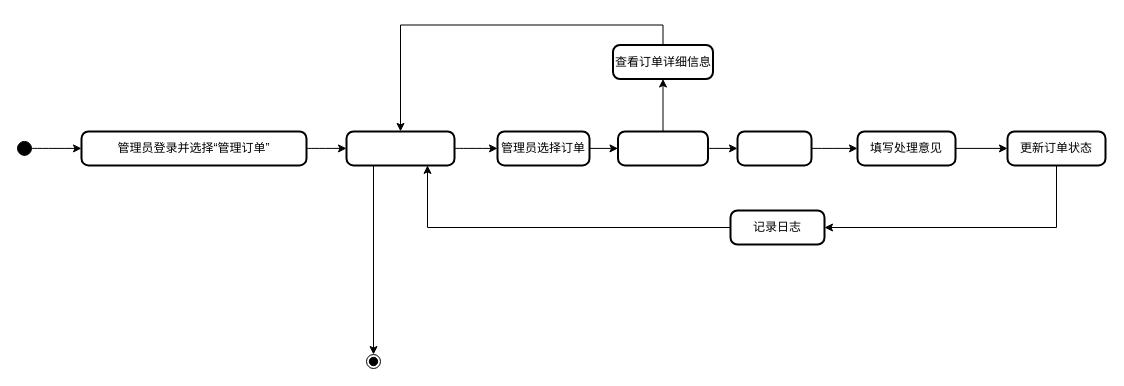
This 1124x386 diagram has some shape labels left out. Each missing label, with the box of its shape:
处理异常订单: (736, 130, 812, 166)
管理员选择操作: (616, 130, 708, 166)
系统展示订单列表: (345, 130, 455, 166)
